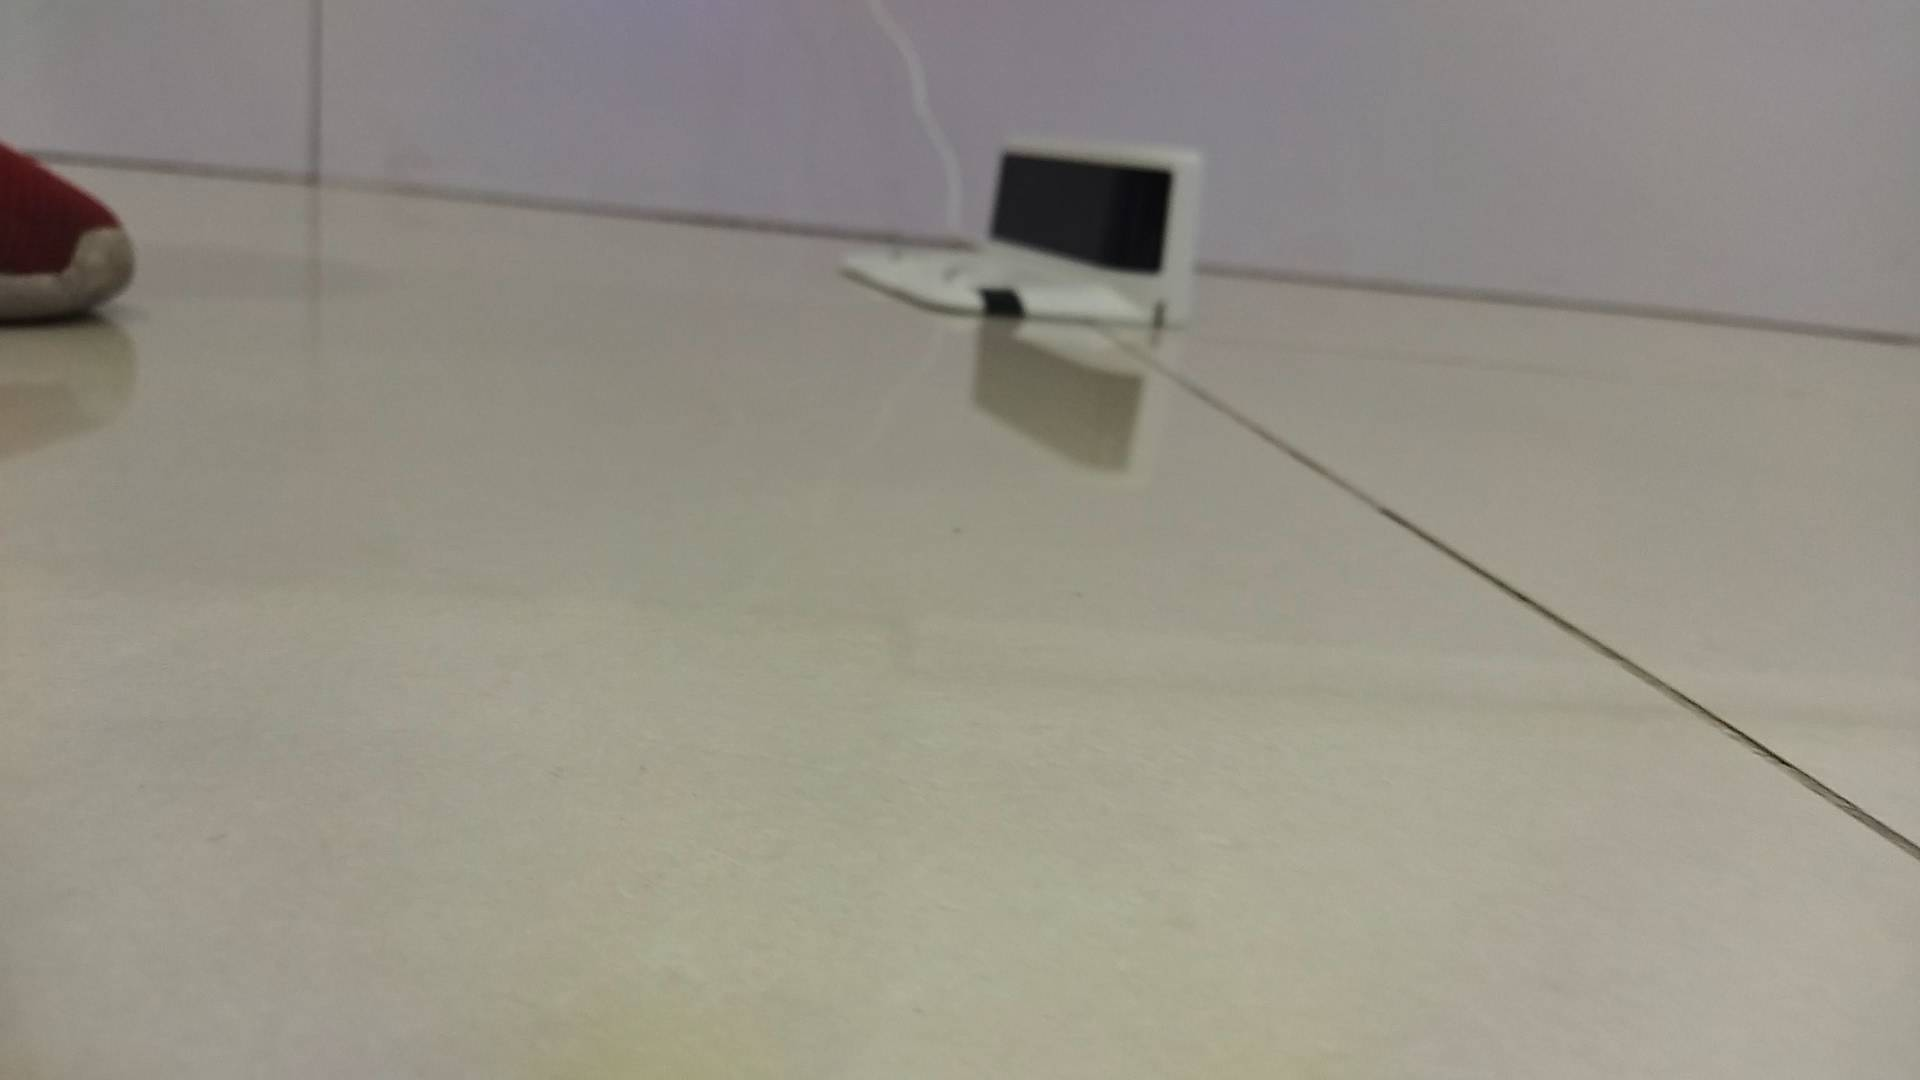recharge seat: (840, 133, 1203, 327)
